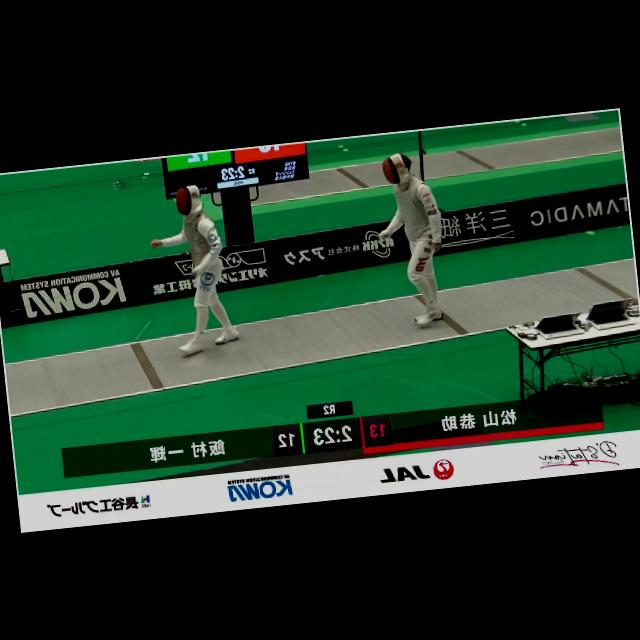blade: (125, 270, 204, 342)
